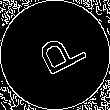P_SW: (24, 27, 86, 83)
